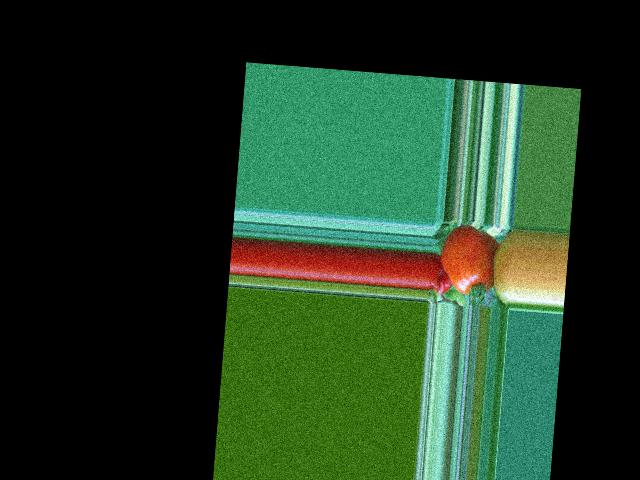tomato: (438, 223, 497, 296)
